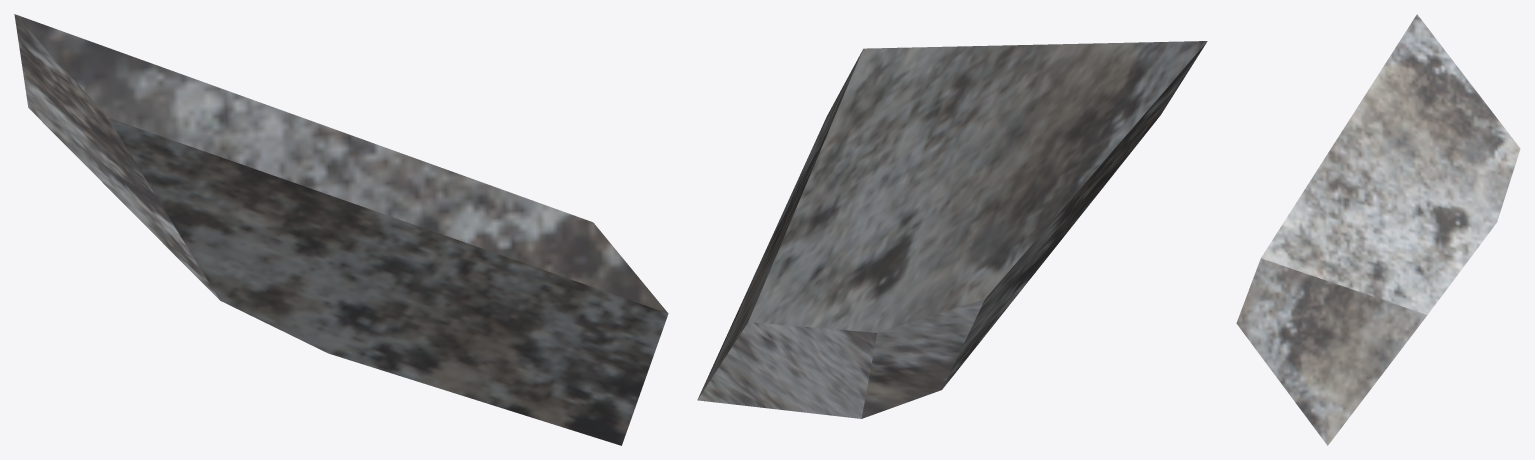
File: Asteroid_Large_001_02_006_03_011.fbx
3 renders of one model, left to right at view 1: azimuth 30°, elevation 25°; view 2: azimuth 150°, elevation 25°; view 3: azimuth 270°, elevation 25°, orthographic. The views are drawn at different scales.
Visible parts, largest first — view 1: Asteroid_Large_001_02_006_03_011; view 2: Asteroid_Large_001_02_006_03_011; view 3: Asteroid_Large_001_02_006_03_011.
Part boxes in pixels (x1,y1,x2,y2): Asteroid_Large_001_02_006_03_011: (14,14,668,445); Asteroid_Large_001_02_006_03_011: (697,41,1207,418); Asteroid_Large_001_02_006_03_011: (1236,14,1520,445).
Size of the model in its own units: 5.16 by 4.7 by 4.24.
